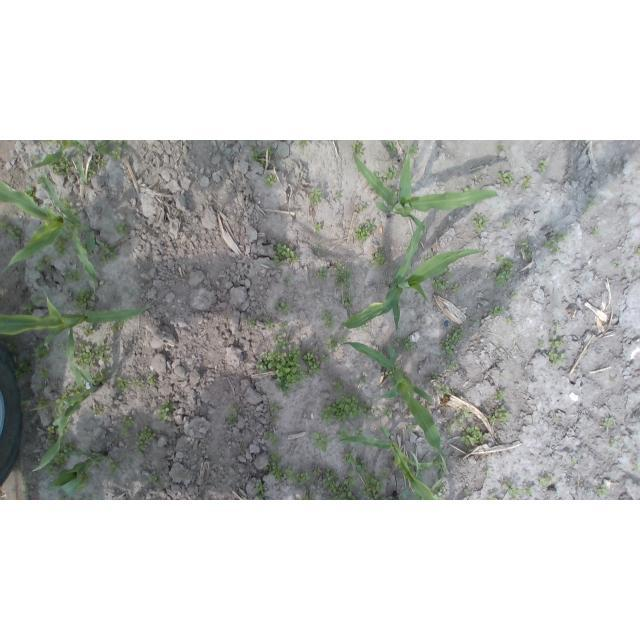Maize: (338, 341, 448, 492), (339, 217, 482, 332), (351, 146, 497, 233), (0, 174, 100, 287), (33, 327, 102, 474), (1, 291, 148, 349), (338, 424, 441, 501), (28, 141, 97, 186), (45, 446, 105, 493), (389, 448, 424, 500)
Weeds: (256, 346, 308, 398), (311, 466, 359, 500), (320, 396, 366, 425), (44, 441, 74, 476), (493, 253, 515, 289), (440, 327, 465, 355), (360, 473, 385, 500), (52, 227, 74, 257), (95, 140, 124, 162), (72, 342, 96, 368), (134, 427, 158, 453), (271, 244, 300, 265), (265, 452, 284, 482), (60, 195, 81, 221), (460, 427, 488, 446), (50, 151, 70, 177), (488, 405, 512, 426), (355, 220, 376, 243), (284, 467, 309, 486), (335, 263, 353, 289), (12, 357, 32, 380), (312, 432, 332, 455), (302, 351, 320, 375), (99, 241, 118, 263), (87, 155, 106, 177), (544, 233, 566, 252), (22, 296, 45, 314), (407, 461, 429, 479), (95, 341, 113, 362), (75, 288, 92, 308), (32, 343, 50, 361), (35, 254, 54, 271), (507, 477, 521, 500), (516, 240, 532, 260), (472, 212, 488, 232), (52, 398, 67, 419), (396, 337, 417, 352), (371, 248, 386, 269), (308, 186, 325, 204), (496, 172, 514, 189), (431, 275, 450, 291), (321, 308, 336, 328), (548, 351, 568, 366), (432, 456, 445, 479), (120, 419, 137, 436), (447, 413, 462, 432), (157, 403, 172, 421), (274, 301, 292, 316), (430, 484, 446, 500), (91, 369, 109, 383), (339, 427, 353, 445), (7, 226, 22, 242), (273, 334, 288, 350), (260, 314, 275, 330), (549, 333, 564, 349), (65, 268, 82, 282), (339, 292, 353, 309), (248, 149, 265, 163), (263, 432, 281, 445), (47, 426, 58, 447), (255, 479, 266, 500), (35, 364, 49, 380), (331, 380, 345, 396), (342, 449, 356, 465), (107, 458, 121, 474), (114, 222, 131, 235), (112, 319, 127, 333), (116, 376, 129, 392), (384, 369, 397, 385), (352, 140, 365, 156), (355, 459, 369, 473), (387, 167, 400, 182), (62, 385, 79, 396), (263, 175, 277, 188), (373, 172, 387, 185), (37, 396, 49, 411), (490, 304, 505, 316), (539, 474, 554, 486), (521, 175, 532, 191), (325, 335, 337, 349), (385, 186, 399, 198), (84, 324, 97, 336), (386, 140, 397, 154), (597, 484, 608, 498), (460, 407, 472, 419), (316, 267, 328, 279), (383, 404, 394, 417), (537, 160, 548, 173), (63, 418, 71, 435), (439, 384, 451, 395), (523, 485, 534, 497), (447, 360, 458, 371), (407, 144, 419, 154), (602, 417, 614, 427), (148, 475, 160, 485), (495, 390, 505, 401), (443, 267, 453, 278), (247, 316, 256, 328), (360, 319, 370, 329), (338, 333, 348, 343), (24, 483, 33, 494), (367, 408, 376, 419), (23, 186, 34, 195), (357, 203, 366, 214), (380, 468, 389, 479), (486, 493, 500, 500), (356, 376, 368, 384), (298, 140, 310, 148), (92, 407, 102, 416), (355, 427, 364, 437), (226, 414, 235, 424), (270, 401, 279, 411), (321, 355, 330, 365), (407, 425, 416, 434), (451, 284, 460, 293), (431, 372, 441, 380), (429, 252, 440, 259), (588, 198, 597, 206), (315, 223, 322, 233), (280, 322, 286, 333), (0, 221, 8, 229), (402, 372, 410, 380), (315, 246, 323, 254), (20, 399, 29, 406), (56, 343, 65, 350), (229, 404, 236, 413), (459, 187, 469, 193), (37, 384, 45, 391), (42, 140, 56, 144), (592, 228, 600, 235), (267, 148, 273, 157), (504, 318, 512, 324), (497, 145, 505, 151), (147, 376, 154, 382), (571, 458, 578, 464), (539, 342, 545, 349), (133, 379, 138, 387), (484, 468, 489, 476), (609, 440, 617, 445), (503, 222, 509, 228), (262, 161, 267, 168), (31, 156, 37, 161), (511, 292, 516, 298), (60, 496, 67, 500), (584, 208, 589, 213), (464, 488, 468, 492), (336, 193, 340, 196)
